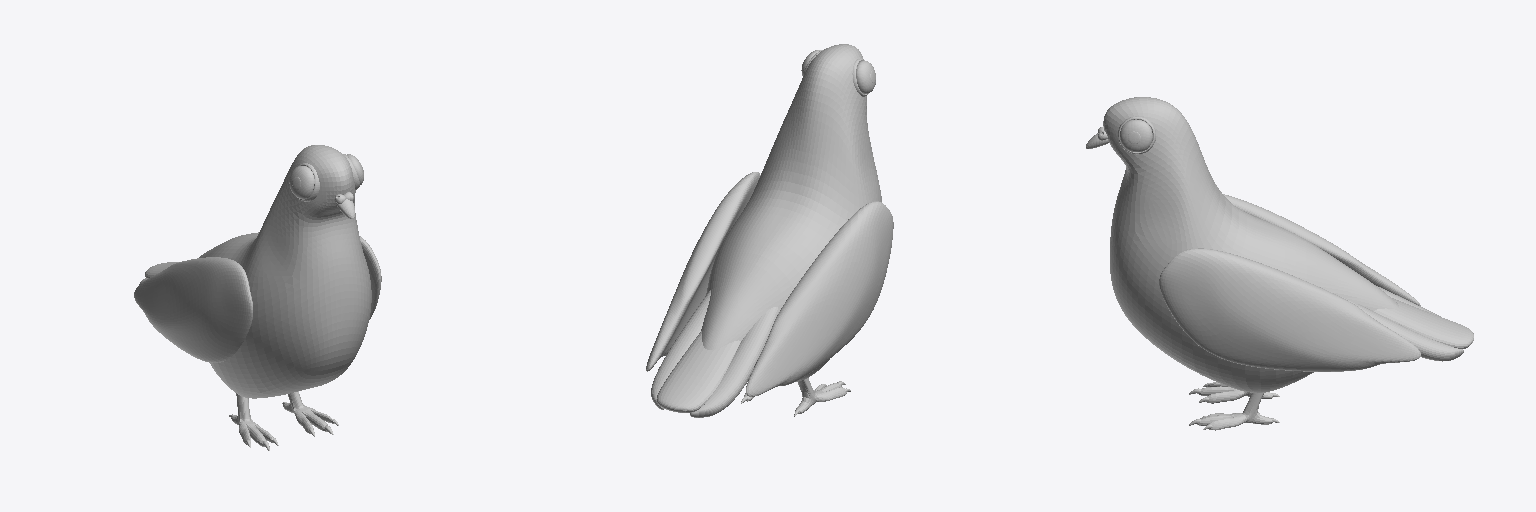
Rendered from Pigeon.obj.
The picture shows the model from 3 angles: view 1: azimuth 30°, elevation 25°; view 2: azimuth 150°, elevation 25°; view 3: azimuth 270°, elevation 25°; orthographic projection.
Visible parts, largest first — view 1: polySurface55; view 2: polySurface55; view 3: polySurface55.
Part boxes in pixels (x1,y1,x2,y2): polySurface55: (134,145,381,450); polySurface55: (646,44,893,417); polySurface55: (1086,97,1473,430).
Size of the model in its own units: 0.0451 by 0.0844 by 0.0951.